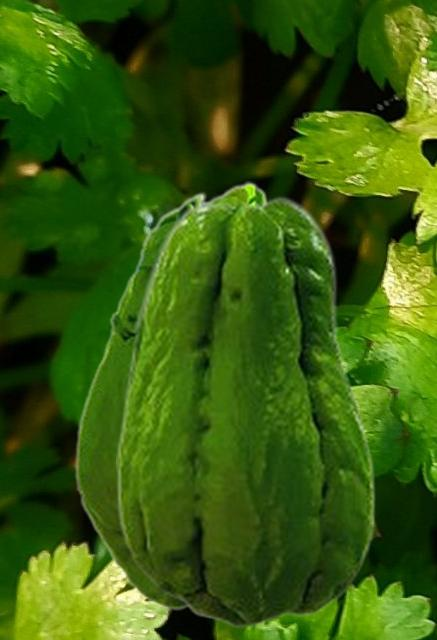sayote: (116, 195, 375, 628), (74, 181, 270, 620)
